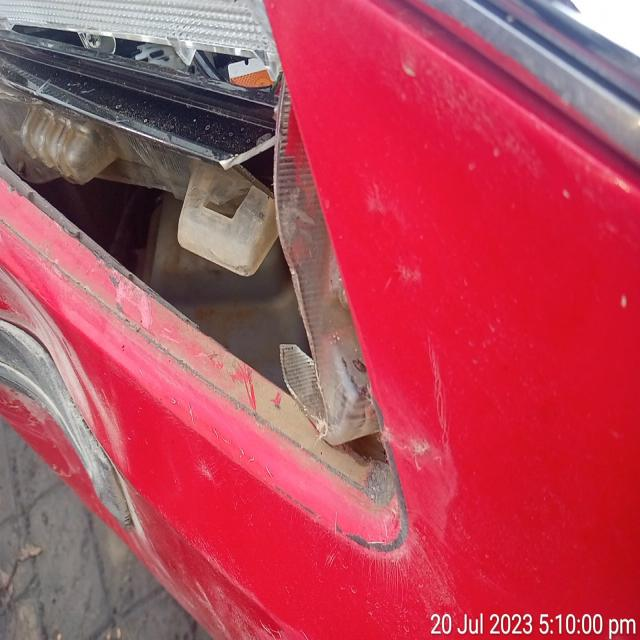damage: (4, 200, 154, 570), (265, 70, 406, 456), (2, 0, 294, 153), (305, 472, 444, 583)
